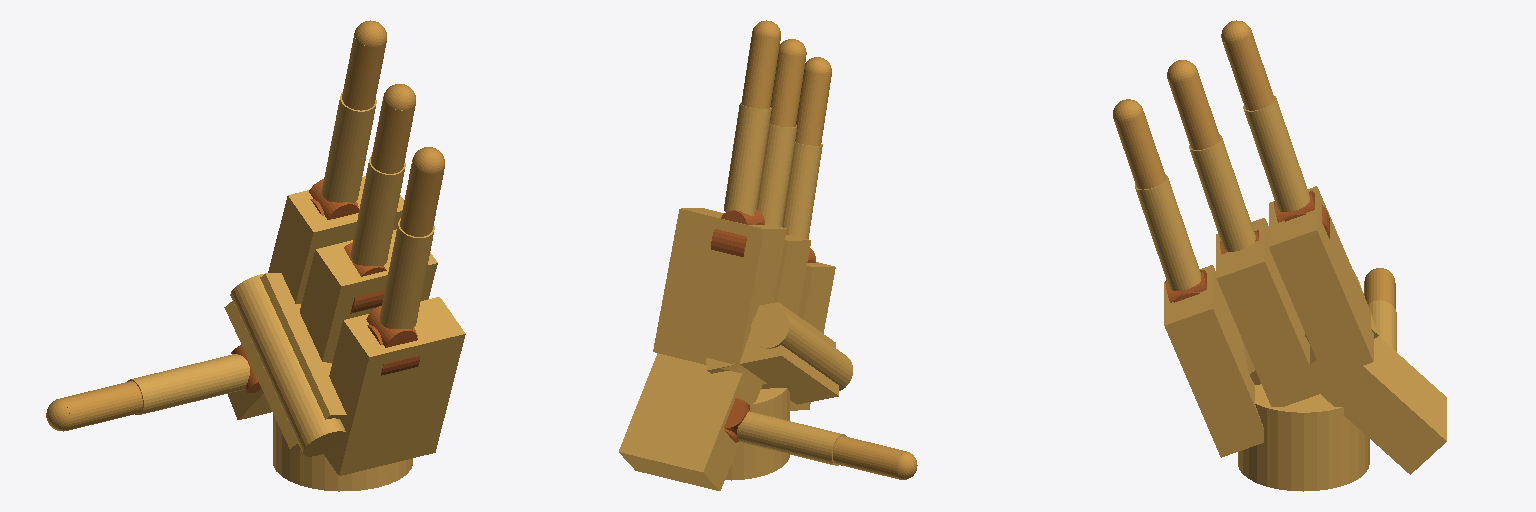
--- Render facts (derived) ---
3 views of the same robot in one strip: view 1: azimuth 30°, elevation 25°; view 2: azimuth 150°, elevation 25°; view 3: azimuth 270°, elevation 25° (orthographic).
Model sandia_hand_left with 43 links and 42 joints (15 revolute, 3 prismatic, 24 fixed), rooted at world, posed all joints at 0.
Links seen in each view (by area): view 1: left_palm, left_f3_1, left_f2_1, left_f1_1, left_f0_1, left_f3_2, left_f1_2, left_f2_2, left_f0_2, left_f2_0, left_f0_0, left_f1_0; view 2: left_palm, left_f0_1, left_f3_1, left_f1_1, left_f2_1, left_f0_2, left_f3_2, left_f2_2, left_f1_2, left_f0_0, left_f3_0; view 3: left_palm, left_f1_1, left_f2_1, left_f0_1, left_f1_2, left_f2_2, left_f0_2, left_f3_2, left_f3_1, left_f0_0.
Link boxes in pixels (x1,y1,x2,y2): left_palm: (224, 176, 465, 491); left_f3_1: (127, 354, 249, 414); left_f2_1: (380, 218, 434, 328); left_f1_1: (351, 155, 405, 265); left_f0_1: (322, 92, 376, 202); left_f3_2: (46, 381, 142, 431); left_f1_2: (371, 84, 415, 173); left_f2_2: (400, 147, 444, 236); left_f0_2: (342, 20, 386, 110); left_f2_0: (366, 306, 419, 375); left_f0_0: (309, 179, 358, 219); left_f1_0: (344, 242, 386, 313); left_palm: (619, 208, 852, 490); left_f0_1: (724, 102, 771, 215); left_f3_1: (737, 411, 846, 465); left_f1_1: (757, 124, 796, 226); left_f2_1: (782, 142, 822, 238); left_f0_2: (741, 20, 780, 108); left_f3_2: (833, 436, 917, 479); left_f2_2: (795, 57, 831, 145); left_f1_2: (770, 39, 806, 126); left_f0_0: (711, 210, 764, 256); left_f3_0: (724, 397, 750, 442); left_palm: (1164, 186, 1446, 491); left_f1_1: (1189, 134, 1255, 251); left_f2_1: (1135, 174, 1200, 290); left_f0_1: (1243, 96, 1309, 211); left_f1_2: (1167, 60, 1219, 149); left_f2_2: (1113, 99, 1165, 189); left_f0_2: (1221, 20, 1274, 110); left_f3_2: (1364, 268, 1395, 308); left_f3_1: (1368, 300, 1396, 351); left_f0_0: (1274, 191, 1329, 238).
Bounding box of the posed robot: 0.196 × 0.1924 × 0.2782 m (x, y, z).
Geometry: primitives only (box / cylinder / sphere), no mesh files.

robot.urdf — sandia_hand_left:
<?xml version="1.0" ?>
<!-- =================================================================================== -->
<!-- |    This document was autogenerated by xacro from sandia_hand_drake_left_w_floating_base.urdf.xacro | -->
<!-- |    EDITING THIS FILE BY HAND IS NOT RECOMMENDED                                 | -->
<!-- =================================================================================== -->
<robot name="sandia_hand_left" xmlns:controller="http://playerstage.sourceforge.net/gazebo/xmlschema/#controller" xmlns:interface="http://playerstage.sourceforge.net/gazebo/xmlschema/#interface" xmlns:sensor="http://playerstage.sourceforge.net/gazebo/xmlschema/#sensor" xmlns:xacro="http://www.ros.org/wiki/xacro">
  <!-- derived from /usr/share/sandia-hand-5.1/ros/sandia_hand_description/robots/sandia_hand_left_on_box.urdf.xacro-->
  <!-- Commenting out urdf with meshes, using simple collision shapes instead -->
  <!--<include filename="$(find mit_drcsim_scripts)/models/mit_robot_hands/drake_urdfs/xacro/sandia_hand_drake.urdf.xacro" />-->
  <link name="world">
    <origin rpy="0 0 0" xyz="0 0 0"/>
    <inertial>
      <mass value="0.1"/>
      <origin xyz="0 0 0"/>
      <inertia ixx="0.01" ixy="0" ixz="0" iyy="0.01" iyz="0" izz="0.01"/>
    </inertial>
  </link>
  <link name="left_base_x">
    <origin rpy="0 0 0" xyz="0 0 0"/>
    <inertial>
      <mass value="0.1"/>
      <origin xyz="0 0 0"/>
      <inertia ixx="0.01" ixy="0" ixz="0" iyy="0.01" iyz="0" izz="0.01"/>
    </inertial>
  </link>
  <link name="left_base_y">
    <origin rpy="0 0 0" xyz="0 0 0"/>
    <inertial>
      <mass value="0.1"/>
      <origin xyz="0 0 0"/>
      <inertia ixx="0.01" ixy="0" ixz="0" iyy="0.01" iyz="0" izz="0.01"/>
    </inertial>
  </link>
  <link name="left_base_z">
    <origin rpy="0 0 0" xyz="0 0 0"/>
    <inertial>
      <mass value="0.1"/>
      <origin xyz="0 0 0"/>
      <inertia ixx="0.01" ixy="0" ixz="0" iyy="0.01" iyz="0" izz="0.01"/>
    </inertial>
  </link>
  <link name="left_base_roll">
    <origin rpy="0 0 0" xyz="0 0 0"/>
    <inertial>
      <mass value="0.1"/>
      <origin xyz="0 0 0"/>
      <inertia ixx="0.01" ixy="0" ixz="0" iyy="0.01" iyz="0" izz="0.01"/>
    </inertial>
  </link>
  <link name="left_base_pitch">
    <origin rpy="0 0 0" xyz="0 0 0"/>
    <inertial>
      <mass value="0.1"/>
      <origin xyz="0 0 0"/>
      <inertia ixx="0.01" ixy="0" ixz="0" iyy="0.01" iyz="0" izz="0.01"/>
    </inertial>
  </link>
  <link name="left_base_yaw">
    <origin rpy="0 0 0" xyz="0 0 0"/>
    <inertial>
      <mass value="0.1"/>
      <origin xyz="0 0 0"/>
      <inertia ixx="0.01" ixy="0" ixz="0" iyy="0.01" iyz="0" izz="0.01"/>
    </inertial>
  </link>
  <joint name="left_base_x" type="prismatic">
    <axis xyz="1 0 0"/>
    <parent link="world"/>
    <child link="left_base_x"/>
    <limit effort="1" lower="-10" upper="10" velocity="1"/>
    <!-- <safety_controller soft_lower_limit="${-1.57079-10.0}" soft_upper_limit="${1.57079+10.0}" k_position="1000.0" k_velocity="1000.0"/> -->
    <dynamics damping="0.1"/>
    <origin rpy="0 0 0" xyz="-0.1 0 0.0"/>
  </joint>
  <joint name="left_base_y" type="prismatic">
    <axis xyz="0 1 0"/>
    <parent link="left_base_x"/>
    <child link="left_base_y"/>
    <limit effort="1" lower="-10" upper="10" velocity="1"/>
    <!-- <safety_controller soft_lower_limit="${-1.57079-10.0}" soft_upper_limit="${1.57079+10.0}" k_position="1000.0" k_velocity="1000.0"/> -->
    <dynamics damping="0.1"/>
    <origin rpy="0 0 0" xyz="0 0 0"/>
  </joint>
  <joint name="left_base_z" type="prismatic">
    <axis xyz="0 0 1"/>
    <parent link="left_base_y"/>
    <child link="left_base_z"/>
    <limit effort="1" lower="-10" upper="10" velocity="1"/>
    <!-- <safety_controller soft_lower_limit="${-1.57079-10.0}" soft_upper_limit="${1.57079+10.0}" k_position="1000.0" k_velocity="1000.0"/> -->
    <dynamics damping="0.1"/>
    <origin rpy="0 0 0" xyz="0 0 0"/>
  </joint>
  <joint name="left_base_roll" type="revolute">
    <axis xyz="1 0 0"/>
    <parent link="left_base_z"/>
    <child link="left_base_roll"/>
    <limit effort="1" lower="-6.2832" upper="6.2832" velocity="1"/>
    <safety_controller k_position="1000.0" k_velocity="1000.0" soft_lower_limit="-11.57079" soft_upper_limit="11.57079"/>
    <dynamics damping="0.1"/>
    <origin rpy="0 0 0" xyz="0 0 0"/>
  </joint>
  <joint name="left_base_pitch" type="revolute">
    <axis xyz="0 1 0"/>
    <parent link="left_base_roll"/>
    <child link="left_base_pitch"/>
    <limit effort="1" lower="-6.2832" upper="6.2832" velocity="1"/>
    <safety_controller k_position="1000.0" k_velocity="1000.0" soft_lower_limit="-11.57079" soft_upper_limit="11.57079"/>
    <dynamics damping="0.1"/>
    <origin rpy="0 0 0" xyz="0 0 0"/>
  </joint>
  <joint name="left_base_yaw" type="revolute">
    <axis xyz="0 0 1"/>
    <parent link="left_base_pitch"/>
    <child link="left_base_yaw"/>
    <limit effort="1" lower="-6.2832" upper="6.2832" velocity="1"/>
    <safety_controller k_position="1000.0" k_velocity="1000.0" soft_lower_limit="-11.57079" soft_upper_limit="11.57079"/>
    <dynamics damping="0.1"/>
    <origin rpy="0 0 0" xyz="0 0 0"/>
  </joint>
  <link name="left_palm">
    <origin rpy="0 0 0" xyz="0 0 0"/>
    <inertial>
      <mass value="0.3"/>
      <origin xyz="0 0 0"/>
      <inertia ixx="0.01" ixy="0" ixz="0" iyy="0.01" iyz="0" izz="0.01"/>
    </inertial>
    <!-- begin simple shape approximation of palm -->
    <!-- <collision group="default">
        <origin xyz="0.069 ${0.016 * reflect} 0.038" rpy="0 ${M_pi/2} ${-0.9 * reflect}"/>
        <geometry>
          <cylinder radius="0.013" length="0.100" />
        </geometry>
      </collision> -->
    <!-- <collision group="other">
        <origin xyz="0.064 ${0.008 * reflect} 0.021" rpy="0.41 0 ${-0.9 * reflect}"/>
        <geometry>
          <box size="0.09 .035 .05" />
        </geometry>
      </collision> -->
    <!-- <collision group="other">
        <origin xyz="0.02 0 -0.005" rpy="0 ${M_pi/2} 0"/>
        <geometry>
          <cylinder radius="0.038" length="0.05" />
        </geometry>
      </collision> -->
    <!-- <collision group="other">
        <origin xyz="0.11 ${-0.01*reflect} -0.005" rpy="0 0 ${0.37*reflect}"/>
        <geometry>
          <box size="0.09 .03 .06" />
        </geometry>
      </collision> -->
    <!-- <collision group="other">
        <origin xyz="0.09 ${0.02*reflect} -0.005" rpy="0 0 ${0.37*reflect}"/>
        <geometry>
          <box size="0.09 .03 .06" />
        </geometry>
      </collision> -->
    <!--<collision group="other">
        <origin xyz="0.060 ${0.050*reflect} -0.005" rpy="0 0 ${0.37*reflect}"/>
        <geometry>
          <box size="0.09 .03 .06" />
        </geometry>
      </collision> -->
    <!-- <collision group="other">
        <origin xyz="0.044 ${-0.04*reflect} -0.005" rpy="0 0 ${0.79*reflect}"/>
        <geometry>
          <box size="0.09 .03 .06" />
        </geometry>
      </collision>-->
    <!--   end simple shape approximation of palm -->
    <!-- begin visual shape approximation of palm -->
    <visual>
      <origin rpy="0 1.57079632679 0.9" xyz="0.069 -0.016 0.038"/>
      <geometry>
        <cylinder length="0.100" radius="0.013"/>
      </geometry>
      <material name="left_sandia_hand_skin">
        <color rgba="0.835 0.655 0.345 1.0"/>
      </material>
    </visual>
    <visual>
      <origin rpy="0.41 0 0.9" xyz="0.064 -0.008 0.021"/>
      <geometry>
        <box size="0.09 .035 .05"/>
      </geometry>
      <material name="left_sandia_hand_skin">
        <color rgba="0.835 0.655 0.345 1.0"/>
      </material>
    </visual>
    <visual>
      <origin rpy="0 1.57079632679 0" xyz="0.02 0 -0.005"/>
      <geometry>
        <cylinder length="0.05" radius="0.038"/>
      </geometry>
      <material name="left_sandia_hand_skin">
        <color rgba="0.835 0.655 0.345 1.0"/>
      </material>
    </visual>
    <visual>
      <origin rpy="0 0 -0.37" xyz="0.11 0.01 -0.005"/>
      <geometry>
        <box size="0.09 .03 .06"/>
      </geometry>
      <material name="left_sandia_hand_skin">
        <color rgba="0.835 0.655 0.345 1.0"/>
      </material>
    </visual>
    <visual>
      <origin rpy="0 0 -0.37" xyz="0.09 -0.02 -0.005"/>
      <geometry>
        <box size="0.09 .03 .06"/>
      </geometry>
      <material name="left_sandia_hand_skin">
        <color rgba="0.835 0.655 0.345 1.0"/>
      </material>
    </visual>
    <visual>
      <origin rpy="0 0 -0.37" xyz="0.060 -0.05 -0.005"/>
      <geometry>
        <box size="0.09 .03 .06"/>
      </geometry>
      <material name="left_sandia_hand_skin">
        <color rgba="0.835 0.655 0.345 1.0"/>
      </material>
    </visual>
    <visual>
      <origin rpy="0 0 -0.79" xyz="0.044 0.04 -0.005"/>
      <geometry>
        <box size="0.09 .03 .06"/>
      </geometry>
      <material name="left_sandia_hand_skin">
        <color rgba="0.835 0.655 0.345 1.0"/>
      </material>
    </visual>
    <!--   end visual shape approximation of palm -->
    <!-- begin collision mesh of f2 ->
      <collision group="default">
        <origin xyz="0 0 0" rpy="0 0 0"/>
        <geometry>
          <mesh filename="package://sandia_hand_description/meshes/palm.stl"/>
        </geometry>
      </collision>
      <!-   end collision mesh of f2 -->
    <!-- begin visual mesh of f2    ->
      <visual>
        <origin xyz="0 0 0" rpy="0 0 0"/>
        <geometry>
          <mesh filename="package://sandia_hand_description/meshes/palm.stl"/>
        </geometry>
        <material name="${side}_sandia_hand_skin">
          <color rgba="0.835 0.655 0.345 1.0"/>
        </material>
      </visual>
      <!-   end visual mesh of f2 -->
  </link>
  <joint name="left_sandia_hand_joint" type="fixed">
    <parent link="left_base_yaw"/>
    <child link="left_palm"/>
    <origin rpy="0 -1.57079 0" xyz="0 0 0.0"/>
  </joint>
  <link name="left_f0_base">
    <origin rpy="0 0 0" xyz="0 0 0"/>
    <inertial>
      <mass value="0.35"/>
      <origin xyz="0 0 0"/>
      <inertia ixx="0.01" ixy="0" ixz="0" iyy="0.01" iyz="0" izz="0.01"/>
    </inertial>
  </link>
  <link name="left_f0_fixed_accel">
    <origin rpy="0 0 0" xyz="0 0 0"/>
    <inertial>
      <mass value="0.001"/>
      <origin xyz="0 0 0"/>
      <inertia ixx="0.01" ixy="0" ixz="0" iyy="0.01" iyz="0" izz="0.01"/>
    </inertial>
    <!-- ############ MIT ADDITION ############ -->
    <collision>
      <origin rpy="0 0 0" xyz="0 0 0.05"/>
      <geometry>
        <sphere radius="0"/>
      </geometry>
    </collision>
    <!-- ############    END     ############ -->
  </link>
  <link name="left_f0_0">
    <origin rpy="0 0 0" xyz="0 0 0"/>
    <inertial>
      <mass value="0.05"/>
      <origin xyz="0 0 0"/>
      <inertia ixx="0.01" ixy="0" ixz="0" iyy="0.01" iyz="0" izz="0.01"/>
    </inertial>
    <!-- begin simple shape approximation of f0 -->
    <!-- <collision group="default">
        <origin xyz="0 0 0.003" rpy="0 0 0"/>
        <geometry>
          <cylinder radius="0.015" length="0.023" />
        </geometry>
      </collision> -->
    <!-- <collision group="other">
        <origin xyz="0.011 0 0.003" rpy="${M_pi/2} 0 0"/>
        <geometry>
          <cylinder radius="0.01" length="0.023" />
        </geometry>
      </collision> -->
    <!--   end simple shape approximation of f0 -->
    <!-- begin visual shape approximation of f0 -->
    <visual>
      <origin rpy="0 0 0" xyz="0 0 0.003"/>
      <geometry>
        <cylinder length="0.023" radius="0.015"/>
      </geometry>
      <material name="left_sandia_hand_skin_suntan">
        <color rgba="0.7 0.4 0.2 1.0"/>
      </material>
    </visual>
    <visual>
      <origin rpy="1.57079632679 0 0" xyz="0.011 0 0.003"/>
      <geometry>
        <cylinder length="0.023" radius="0.01"/>
      </geometry>
      <material name="left_sandia_hand_skin_suntan">
        <color rgba="0.7 0.4 0.2 1.0"/>
      </material>
    </visual>
    <!--   end visual shape approximation of f0 -->
    <!-- begin collision mesh of f0 ->
      <collision group="default">
        <origin xyz="0 0 0" rpy="0 0 0"/>
        <geometry>
          <mesh filename="package://sandia_hand_description/meshes/f0.stl"/>
        </geometry>
      </collision>
      <!-   end collision mesh of f0 -->
    <!-- begin visual mesh of f0 ->
      <visual>
        <origin xyz="0 0 0" rpy="0 0 0"/>
        <geometry>
          <mesh filename="package://sandia_hand_description/meshes/f0.stl"/>
        </geometry>
        <material name="${side}_sandia_hand_skin_suntan">
          <color rgba="0.7 0.4 0.2 1.0"/>
        </material>
      </visual>
      <!-   end visual mesh of f0 -->
  </link>
  <link name="left_f0_1">
    <origin rpy="0 0 0" xyz="0 0 0"/>
    <inertial>
      <mass value="0.05"/>
      <origin xyz="0 0 0"/>
      <inertia ixx="0.01" ixy="0" ixz="0" iyy="0.01" iyz="0" izz="0.01"/>
    </inertial>
    <!-- begin simple shape approximation of f1 -->
    <!-- <collision group="default">
        <origin xyz="0.024 0 0" rpy="0 ${M_pi/2} 0"/>
        <geometry>
          <cylinder radius="0.01" length="0.067" />
        </geometry>
      </collision> -->
    <!--   end simple shape approximation of f1 -->
    <!-- begin visual shape approximation of f1 -->
    <visual>
      <origin rpy="0 1.57079632679 0" xyz="0.024 0 0"/>
      <geometry>
        <cylinder length="0.067" radius="0.01"/>
      </geometry>
      <material name="left_sandia_hand_skin">
        <color rgba="0.835 0.655 0.345 1.0"/>
      </material>
    </visual>
    <!--   end visual shape approximation of f1 -->
    <!-- begin collision mesh of f1 ->
      <collision group="default">
        <origin xyz="0 0 0" rpy="0 0 0"/>
        <geometry>
          <mesh filename="package://sandia_hand_description/meshes/f1.stl"/>
        </geometry>
      </collision>
      <!-   end collision mesh of f1 -->
    <!-- begin visual mesh of f1 ->
      <visual>
        <origin xyz="0 0 0" rpy="0 0 0"/>
        <geometry>
          <mesh filename="package://sandia_hand_description/meshes/f1.stl"/>
        </geometry>
        <material name="${side}_sandia_hand_skin">
          <color rgba="0.835 0.655 0.345 1.0"/>
        </material>
      </visual>
      <!-   end visual mesh of f1 -->
  </link>
  <link name="left_f0_1_accel">
    <origin rpy="0 0 0" xyz="0 0 0"/>
    <inertial>
      <mass value="0.001"/>
      <origin xyz="0 0 0"/>
      <inertia ixx="0.01" ixy="0" ixz="0" iyy="0.01" iyz="0" izz="0.01"/>
    </inertial>
    <!-- ############ MIT ADDITION ############ -->
    <!--      <collision>-->
    <!--        <origin rpy="0 0 0" xyz="0 0 0.01"/>-->
    <!--        <geometry>-->
    <!--          <sphere radius="0"/>-->
    <!--        </geometry>-->
    <!--      </collision>  -->
    <!-- ############    END     ############ -->
  </link>
  <link name="left_f0_2">
    <origin rpy="0 0 0" xyz="0 0 0"/>
    <inertial>
      <mass value="0.05"/>
      <origin xyz="0 0 0"/>
      <inertia ixx="0.01" ixy="0" ixz="0" iyy="0.01" iyz="0" izz="0.01"/>
    </inertial>
    <!-- begin simple shape approximation of f2 -->
    <!-- <collision group="default">
        <origin xyz="0.024 0 0" rpy="0 ${M_pi/2} 0"/>
        <geometry>
          <cylinder radius="0.009" length="0.057" />
        </geometry>
      </collision> -->
    <!-- <collision group="other">
        <origin xyz="0.052 0 0" rpy="0 0 0"/>
        <geometry>
          <sphere radius="0.009" />
        </geometry>
      </collision> -->
    <!--   end simple shape approximation of f2 -->
    <!-- begin visual shape approximation of f2 -->
    <visual>
      <origin rpy="0 1.57079632679 0" xyz="0.024 0 0"/>
      <geometry>
        <cylinder length="0.057" radius="0.009"/>
      </geometry>
      <material name="left_sandia_hand_skin_suntan">
        <color rgba="0.8 0.6 0.3 1.0"/>
      </material>
    </visual>
    <visual>
      <origin rpy="0 0 0" xyz="0.052 0 0"/>
      <geometry>
        <sphere radius="0.009"/>
      </geometry>
      <material name="left_sandia_hand_skin_suntan">
        <color rgba="0.8 0.6 0.3 1.0"/>
      </material>
    </visual>
    <!-- begin collision mesh of f2    ->
      <collision group="default">
        <origin xyz="0 0 0" rpy="0 0 0"/>
        <geometry>
          <mesh filename="package://sandia_hand_description/meshes/f2.stl"/>
        </geometry>
      </collision>
      <!-   end collision mesh of f2 -->
    <!-- begin visual mesh of f2    ->
      <visual>
        <origin xyz="0 0 0" rpy="0 0 0"/>
        <geometry>
          <mesh filename="package://sandia_hand_description/meshes/f2.stl"/>
        </geometry>
        <material name="${side}_sandia_hand_skin_suntan">
          <color rgba="0.8 0.6 0.3 1.0"/>
        </material>
      </visual>
      <!-   end visual mesh of f2 -->
  </link>
  <link name="left_f0_2_accel">
    <origin rpy="0 0 0" xyz="0 0 0"/>
    <inertial>
      <mass value="0.001"/>
      <origin xyz="0 0 0"/>
      <inertia ixx="0.01" ixy="0" ixz="0" iyy="0.01" iyz="0" izz="0.01"/>
    </inertial>
    <!-- ############ MIT ADDITION ############ -->
    <collision>
      <origin rpy="0 0 0" xyz="0 0 0.01"/>
      <geometry>
        <sphere radius="0"/>
      </geometry>
    </collision>
    <!-- ############    END     ############ -->
  </link>
  <link name="left_f0_2_accel_dummy1">
    <origin rpy="0 0 0" xyz="0 0 0"/>
    <inertial>
      <mass value="0.001"/>
      <origin xyz="0 0 0"/>
      <inertia ixx="0.01" ixy="0" ixz="0" iyy="0.01" iyz="0" izz="0.01"/>
    </inertial>
    <collision>
      <origin rpy="0 0 0" xyz="-0.02 0.0 0.01"/>
      <geometry>
        <sphere radius="0"/>
      </geometry>
    </collision>
  </link>
  <joint name="left_f0_2_accel_dummy1" type="fixed">
    <parent link="left_f0_2"/>
    <child link="left_f0_2_accel_dummy1"/>
    <origin rpy="-1.57079632679 0 0" xyz="0.04 0 0"/>
  </joint>
  <joint name="left_f0_base" type="fixed">
    <parent link="left_palm"/>
    <child link="left_f0_base"/>
    <origin rpy="0 0 -0.3" xyz="0.14 0.0 0"/>
  </joint>
  <joint name="left_f0_j1" type="revolute">
    <axis xyz="0 0 1"/>
    <parent link="left_f0_0"/>
    <child link="left_f0_1"/>
    <limit effort="1" lower="-1.57079632679" upper="1.57079632679" velocity="1"/>
    <safety_controller k_position="1000.0" k_velocity="1000.0" soft_lower_limit="-11.57079" soft_upper_limit="11.57079"/>
    <dynamics damping="0.2"/>
    <origin rpy="1.57079632679 0 0" xyz="0.028 0 0"/>
  </joint>
  <joint name="left_f0_j2" type="revolute">
    <axis xyz="0 0 1"/>
    <parent link="left_f0_1"/>
    <child link="left_f0_2"/>
    <origin rpy="0 0 0" xyz="0.05 0 0"/>
    <safety_controller k_position="1000.0" k_velocity="1000.0" soft_lower_limit="-11.57079" soft_upper_limit="11.57079"/>
    <dynamics damping="0.2"/>
    <limit effort="1" lower="-1.57079632679" upper="1.57079632679" velocity="1"/>
  </joint>
  <joint name="left_f0_fixed_accel" type="fixed">
    <parent link="left_f0_base"/>
    <child link="left_f0_fixed_accel"/>
    <origin rpy="0 0 0" xyz="-0.05 0 0"/>
  </joint>
  <joint name="left_f0_1_accel" type="fixed">
    <parent link="left_f0_1"/>
    <child link="left_f0_1_accel"/>
    <origin rpy="-1.57079632679 0 0" xyz="0.03 0 0"/>
  </joint>
  <joint name="left_f0_2_accel" type="fixed">
    <parent link="left_f0_2"/>
    <child link="left_f0_2_accel"/>
    <origin rpy="-1.57079632679 0 0" xyz="0.04 0 0"/>
  </joint>
  <link name="left_f0_knuckle_dummy_contact">
    <origin rpy="0 0 0" xyz="0 0 0"/>
    <inertial>
      <mass value="0.001"/>
      <origin xyz="0 0 0"/>
      <inertia ixx="0.001" ixy="0" ixz="0" iyy="0.001" iyz="0" izz="0.001"/>
    </inertial>
    <collision>
      <origin rpy="0 0 0" xyz="0.058 0 0.034"/>
      <!--TODO: THERE IS A ERROR HERE: xyz needs to be "0.058 0 0.034" instead of "0.1 0 0.05"-->
      <geometry>
        <sphere radius="0"/>
      </geometry>
    </collision>
  </link>
  <joint name="left_f0_knuckle_dummy_contact" type="fixed">
    <parent link="left_f0_base"/>
    <child link="left_f0_knuckle_dummy_contact"/>
    <origin rpy="0 0 0" xyz="-0.05 0 0"/>
  </joint>
  <transmission name="left_f0_j0" type="pr2_mechanism_model/SimpleTransmission">
    <joint name="left_f0_j0"/>
    <actuator name="left_f0_j0_motor"/>
    <mechanicalReduction>1</mechanicalReduction>
  </transmission>
  <transmission name="left_f0_j1" type="pr2_mechanism_model/SimpleTransmission">
    <joint name="left_f0_j1"/>
    <actuator name="left_f0_j1_motor"/>
    <mechanicalReduction>1</mechanicalReduction>
  </transmission>
  <transmission name="left_f0_j2" type="pr2_mechanism_model/SimpleTransmission">
    <joint name="left_f0_j2"/>
    <actuator name="left_f0_j2_motor"/>
    <mechanicalReduction>1</mechanicalReduction>
  </transmission>
  <link name="left_f1_base">
    <origin rpy="0 0 0" xyz="0 0 0"/>
    <inertial>
      <mass value="0.35"/>
      <origin xyz="0 0 0"/>
      <inertia ixx="0.01" ixy="0" ixz="0" iyy="0.01" iyz="0" izz="0.01"/>
    </inertial>
  </link>
  <link name="left_f1_fixed_accel">
    <origin rpy="0 0 0" xyz="0 0 0"/>
    <inertial>
      <mass value="0.001"/>
      <origin xyz="0 0 0"/>
      <inertia ixx="0.01" ixy="0" ixz="0" iyy="0.01" iyz="0" izz="0.01"/>
    </inertial>
    <!-- ############ MIT ADDITION ############ -->
    <collision>
      <origin rpy="0 0 0" xyz="0 0 0.05"/>
      <geometry>
        <sphere radius="0"/>
      </geometry>
    </collision>
    <!-- ############    END     ############ -->
  </link>
  <link name="left_f1_0">
    <origin rpy="0 0 0" xyz="0 0 0"/>
    <inertial>
      <mass value="0.05"/>
      <origin xyz="0 0 0"/>
      <inertia ixx="0.01" ixy="0" ixz="0" iyy="0.01" iyz="0" izz="0.01"/>
    </inertial>
    <!-- begin simple shape approximation of f0 -->
    <!-- <collision group="default">
        <origin xyz="0 0 0.003" rpy="0 0 0"/>
        <geometry>
          <cylinder radius="0.015" length="0.023" />
        </geometry>
      </collision> -->
    <!-- <collision group="other">
        <origin xyz="0.011 0 0.003" rpy="${M_pi/2} 0 0"/>
        <geometry>
          <cylinder radius="0.01" length="0.023" />
        </geometry>
      </collision> -->
    <!--   end simple shape approximation of f0 -->
    <!-- begin visual shape approximation of f0 -->
    <visual>
      <origin rpy="0 0 0" xyz="0 0 0.003"/>
      <geometry>
        <cylinder length="0.023" radius="0.015"/>
      </geometry>
      <material name="left_sandia_hand_skin_suntan">
        <color rgba="0.7 0.4 0.2 1.0"/>
      </material>
    </visual>
    <visual>
      <origin rpy="1.57079632679 0 0" xyz="0.011 0 0.003"/>
      <geometry>
        <cylinder length="0.023" radius="0.01"/>
      </geometry>
      <material name="left_sandia_hand_skin_suntan">
        <color rgba="0.7 0.4 0.2 1.0"/>
      </material>
    </visual>
    <!--   end visual shape approximation of f0 -->
    <!-- begin collision mesh of f0 ->
      <collision group="default">
        <origin xyz="0 0 0" rpy="0 0 0"/>
        <geometry>
          <mesh filename="package://sandia_hand_description/meshes/f0.stl"/>
        </geometry>
      </collision>
      <!-   end collision mesh of f0 -->
    <!-- begin visual mesh of f0 ->
      <visual>
        <origin xyz="0 0 0" rpy="0 0 0"/>
        <geometry>
          <mesh filename="package://sandia_hand_description/meshes/f0.stl"/>
        </geometry>
        <material name="${side}_sandia_hand_skin_suntan">
          <color rgba="0.7 0.4 0.2 1.0"/>
        </material>
      </visual>
      <!-   end visual mesh of f0 -->
  </link>
  <link name="left_f1_1">
    <origin rpy="0 0 0" xyz="0 0 0"/>
    <inertial>
      <mass value="0.05"/>
      <origin xyz="0 0 0"/>
      <inertia ixx="0.01" ixy="0" ixz="0" iyy="0.01" iyz="0" izz="0.01"/>
    </inertial>
    <!-- begin simple shape approximation of f1 -->
    <!-- <collision group="default">
        <origin xyz="0.024 0 0" rpy="0 ${M_pi/2} 0"/>
        <geometry>
          <cylinder radius="0.01" length="0.067" />
        </geometry>
      </collision> -->
    <!--   end simple shape approximation of f1 -->
    <!-- begin visual shape approximation of f1 -->
    <visual>
      <origin rpy="0 1.57079632679 0" xyz="0.024 0 0"/>
      <geometry>
        <cylinder length="0.067" radius="0.01"/>
      </geometry>
      <material name="left_sandia_hand_skin">
        <color rgba="0.835 0.655 0.345 1.0"/>
      </material>
    </visual>
    <!--   end visual shape approximation of f1 -->
    <!-- begin collision mesh of f1 ->
      <collision group="default">
        <origin xyz="0 0 0" rpy="0 0 0"/>
        <geometry>
          <mesh filename="package://sandia_hand_description/meshes/f1.stl"/>
        </geometry>
      </collision>
      <!-   end collision mesh of f1 -->
    <!-- begin visual mesh of f1 ->
      <visual>
        <origin xyz="0 0 0" rpy="0 0 0"/>
        <geometry>
          <mesh filename="package://sandia_hand_description/meshes/f1.stl"/>
        </geometry>
        <material name="${side}_sandia_hand_skin">
          <color rgba="0.835 0.655 0.345 1.0"/>
        </material>
      </visual>
      <!-   end visual mesh of f1 -->
  </link>
  <link name="left_f1_1_accel">
    <origin rpy="0 0 0" xyz="0 0 0"/>
    <inertial>
      <mass value="0.001"/>
      <origin xyz="0 0 0"/>
      <inertia ixx="0.01" ixy="0" ixz="0" iyy="0.01" iyz="0" izz="0.01"/>
    </inertial>
    <!-- ############ MIT ADDITION ############ -->
    <!--      <collision>-->
    <!--        <origin rpy="0 0 0" xyz="0 0 0.01"/>-->
    <!--        <geometry>-->
    <!--          <sphere radius="0"/>-->
    <!--        </geometry>-->
    <!--      </collision>  -->
    <!-- ############    END     ############ -->
  </link>
  <link name="left_f1_2">
    <origin rpy="0 0 0" xyz="0 0 0"/>
    <inertial>
      <mass value="0.05"/>
      <origin xyz="0 0 0"/>
      <inertia ixx="0.01" ixy="0" ixz="0" iyy="0.01" iyz="0" izz="0.01"/>
    </inertial>
    <!-- begin simple shape approximation of f2 -->
    <!-- <collision group="default">
        <origin xyz="0.024 0 0" rpy="0 ${M_pi/2} 0"/>
        <geometry>
          <cylinder radius="0.009" length="0.057" />
        </geometry>
      </collision> -->
    <!-- <collision group="other">
        <origin xyz="0.052 0 0" rpy="0 0 0"/>
        <geometry>
          <sphere radius="0.009" />
        </geometry>
      </collision> -->
    <!--   end simple shape approximation of f2 -->
    <!-- begin visual shape approximation of f2 -->
    <visual>
      <origin rpy="0 1.57079632679 0" xyz="0.024 0 0"/>
      <geometry>
        <cylinder length="0.057" radius="0.009"/>
      </geometry>
      <material name="left_sandia_hand_skin_suntan">
        <color rgba="0.8 0.6 0.3 1.0"/>
      </material>
    </visual>
    <visual>
      <origin rpy="0 0 0" xyz="0.052 0 0"/>
      <geometry>
        <sphere radius="0.009"/>
      </geometry>
      <material name="left_sandia_hand_skin_suntan">
        <color rgba="0.8 0.6 0.3 1.0"/>
      </material>
    </visual>
    <!-- begin collision mesh of f2    ->
      <collision group="default">
        <origin xyz="0 0 0" rpy="0 0 0"/>
        <geometry>
          <mesh filename="package://sandia_hand_description/meshes/f2.stl"/>
        </geometry>
      </collision>
      <!-   end collision mesh of f2 -->
    <!-- begin visual mesh of f2    ->
      <visual>
        <origin xyz="0 0 0" rpy="0 0 0"/>
        <geometry>
          <mesh filename="package://sandia_hand_description/meshes/f2.stl"/>
        </geometry>
        <material name="${side}_sandia_hand_skin_suntan">
          <color rgba="0.8 0.6 0.3 1.0"/>
        </material>
      </visual>
      <!-   end visual mesh of f2 -->
  </link>
  <link name="left_f1_2_accel">
    <origin rpy="0 0 0" xyz="0 0 0"/>
    <inertial>
      <mass value="0.001"/>
      <origin xyz="0 0 0"/>
      <inertia ixx="0.01" ixy="0" ixz="0" iyy="0.01" iyz="0" izz="0.01"/>
    </inertial>
    <!-- ############ MIT ADDITION ############ -->
    <collision>
      <origin rpy="0 0 0" xyz="0 0 0.01"/>
      <geometry>
        <sphere radius="0"/>
      </geometry>
    </collision>
    <!-- ############    END     ############ -->
  </link>
  <link name="left_f1_2_accel_dummy1">
    <origin rpy="0 0 0" xyz="0 0 0"/>
    <inertial>
      <mass value="0.001"/>
      <origin xyz="0 0 0"/>
      <inertia ixx="0.01" ixy="0" ixz="0" iyy="0.01" iyz="0" izz="0.01"/>
    </inertial>
    <collision>
      <origin rpy="0 0 0" xyz="-0.02 0.0 0.01"/>
      <geometry>
        <sphere radius="0"/>
      </geometry>
    </collision>
  </link>
  <joint name="left_f1_2_accel_dummy1" type="fixed">
    <parent link="left_f1_2"/>
    <child link="left_f1_2_accel_dummy1"/>
    <origin rpy="-1.57079632679 0 0" xyz="0.04 0 0"/>
  </joint>
  <joint name="left_f1_base" type="fixed">
    <parent link="left_palm"/>
    <child link="left_f1_base"/>
    <origin rpy="0 0 -0.3" xyz="0.115 -0.03122 0"/>
  </joint>
  <joint name="left_f1_j1" type="revolute">
    <axis xyz="0 0 1"/>
    <parent link="left_f1_0"/>
    <child link="left_f1_1"/>
    <limit effort="1" lower="-1.57079632679" upper="1.57079632679" velocity="1"/>
    <safety_controller k_position="1000.0" k_velocity="1000.0" soft_lower_limit="-11.57079" soft_upper_limit="11.57079"/>
    <dynamics damping="0.2"/>
    <origin rpy="1.57079632679 0 0" xyz="0.028 0 0"/>
  </joint>
  <joint name="left_f1_j2" type="revolute">
    <axis xyz="0 0 1"/>
    <parent link="left_f1_1"/>
    <child link="left_f1_2"/>
    <origin rpy="0 0 0" xyz="0.05 0 0"/>
    <safety_controller k_position="1000.0" k_velocity="1000.0" soft_lower_limit="-11.57079" soft_upper_limit="11.57079"/>
    <dynamics damping="0.2"/>
    <limit effort="1" lower="-1.57079632679" upper="1.57079632679" velocity="1"/>
  </joint>
  <joint name="left_f1_fixed_accel" type="fixed">
    <parent link="left_f1_base"/>
    <child link="left_f1_fixed_accel"/>
    <origin rpy="0 0 0" xyz="-0.05 0 0"/>
  </joint>
  <joint name="left_f1_1_accel" type="fixed">
    <parent link="left_f1_1"/>
    <child link="left_f1_1_accel"/>
    <origin rpy="-1.57079632679 0 0" xyz="0.03 0 0"/>
  </joint>
  <joint name="left_f1_2_accel" type="fixed">
    <parent link="left_f1_2"/>
    <child link="left_f1_2_accel"/>
    <origin rpy="-1.57079632679 0 0" xyz="0.04 0 0"/>
  </joint>
  <link name="left_f1_knuckle_dummy_contact">
    <origin rpy="0 0 0" xyz="0 0 0"/>
    <inertial>
      <mass value="0.001"/>
      <origin xyz="0 0 0"/>
      <inertia ixx="0.001" ixy="0" ixz="0" iyy="0.001" iyz="0" izz="0.001"/>
    </inertial>
    <collision>
      <origin rpy="0 0 0" xyz="0.058 0 0.034"/>
      <!--TODO: THERE IS A ERROR HERE: xyz needs to be "0.058 0 0.034" instead of "0.1 0 0.05"-->
      <geometry>
        <sphere radius="0"/>
      </geometry>
    </collision>
  </link>
  <joint name="left_f1_knuckle_dummy_contact" type="fixed">
    <parent link="left_f1_base"/>
    <child link="left_f1_knuckle_dummy_contact"/>
    <origin rpy="0 0 0" xyz="-0.05 0 0"/>
  </joint>
  <transmission name="left_f1_j0" type="pr2_mechanism_model/SimpleTransmission">
    <joint name="left_f1_j0"/>
    <actuator name="left_f1_j0_motor"/>
    <mechanicalReduction>1</mechanicalReduction>
  </transmission>
  <transmission name="left_f1_j1" type="pr2_mechanism_model/SimpleTransmission">
    <joint name="left_f1_j1"/>
    <actuator name="left_f1_j1_motor"/>
    <mechanicalReduction>1</mechanicalReduction>
  </transmission>
  <transmission name="left_f1_j2" type="pr2_mechanism_model/SimpleTransmission">
    <joint name="left_f1_j2"/>
    <actuator name="left_f1_j2_motor"/>
    <mechanicalReduction>1</mechanicalReduction>
  </transmission>
  <link name="left_f2_base">
    <origin rpy="0 0 0" xyz="0 0 0"/>
    <inertial>
      <mass value="0.35"/>
      <origin xyz="0 0 0"/>
      <inertia ixx="0.01" ixy="0" ixz="0" iyy="0.01" iyz="0" izz="0.01"/>
    </inertial>
  </link>
  <link name="left_f2_fixed_accel">
    <origin rpy="0 0 0" xyz="0 0 0"/>
    <inertial>
      <mass value="0.001"/>
      <origin xyz="0 0 0"/>
      <inertia ixx="0.01" ixy="0" ixz="0" iyy="0.01" iyz="0" izz="0.01"/>
    </inertial>
    <!-- ############ MIT ADDITION ############ -->
    <collision>
      <origin rpy="0 0 0" xyz="0 0 0.05"/>
      <geometry>
        <sphere radius="0"/>
      </geometry>
    </collision>
    <!-- ############    END     ############ -->
  </link>
  <link name="left_f2_0">
    <origin rpy="0 0 0" xyz="0 0 0"/>
    <inertial>
      <mass value="0.05"/>
      <origin xyz="0 0 0"/>
      <inertia ixx="0.01" ixy="0" ixz="0" iyy="0.01" iyz="0" izz="0.01"/>
    </inertial>
    <!-- begin simple shape approximation of f0 -->
    <!-- <collision group="default">
        <origin xyz="0 0 0.003" rpy="0 0 0"/>
        <geometry>
          <cylinder radius="0.015" length="0.023" />
        </geometry>
      </collision> -->
    <!-- <collision group="other">
        <origin xyz="0.011 0 0.003" rpy="${M_pi/2} 0 0"/>
        <geometry>
          <cylinder radius="0.01" length="0.023" />
        </geometry>
      </collision> -->
    <!--   end simple shape approximation of f0 -->
    <!-- begin visual shape approximation of f0 -->
    <visual>
      <origin rpy="0 0 0" xyz="0 0 0.003"/>
      <geometry>
        <cylinder length="0.023" radius="0.015"/>
      </geometry>
      <material name="left_sandia_hand_skin_suntan">
        <color rgba="0.7 0.4 0.2 1.0"/>
      </material>
    </visual>
    <visual>
      <origin rpy="1.57079632679 0 0" xyz="0.011 0 0.003"/>
      <geometry>
        <cylinder length="0.023" radius="0.01"/>
      </geometry>
      <material name="left_sandia_hand_skin_suntan">
        <color rgba="0.7 0.4 0.2 1.0"/>
      </material>
    </visual>
    <!--   end visual shape approximation of f0 -->
    <!-- begin collision mesh of f0 ->
      <collision group="default">
        <origin xyz="0 0 0" rpy="0 0 0"/>
        <geometry>
          <mesh filename="package://sandia_hand_description/meshes/f0.stl"/>
        </geometry>
      </collision>
      <!-   end collision mesh of f0 -->
    <!-- begin visual mesh of f0 ->
      <visual>
        <origin xyz="0 0 0" rpy="0 0 0"/>
        <geometry>
          <mesh filename="package://sandia_hand_description/meshes/f0.stl"/>
        </geometry>
        <material name="${side}_sandia_hand_skin_suntan">
          <color rgba="0.7 0.4 0.2 1.0"/>
        </material>
      </visual>
      <!-   end visual mesh of f0 -->
  </link>
  <link name="left_f2_1">
    <origin rpy="0 0 0" xyz="0 0 0"/>
    <inertial>
      <mass value="0.05"/>
      <origin xyz="0 0 0"/>
      <inertia ixx="0.01" ixy="0" ixz="0" iyy="0.01" iyz="0" izz="0.01"/>
    </inertial>
    <!-- begin simple shape approximation of f1 -->
    <!-- <collision group="default">
        <origin xyz="0.024 0 0" rpy="0 ${M_pi/2} 0"/>
        <geometry>
          <cylinder radius="0.01" length="0.067" />
        </geometry>
      </collision> -->
    <!--   end simple shape approximation of f1 -->
    <!-- begin visual shape approximation of f1 -->
    <visual>
      <origin rpy="0 1.57079632679 0" xyz="0.024 0 0"/>
      <geometry>
        <cylinder length="0.067" radius="0.01"/>
      </geometry>
      <material name="left_sandia_hand_skin">
        <color rgba="0.835 0.655 0.345 1.0"/>
      </material>
    </visual>
    <!--   end visual shape approximation of f1 -->
    <!-- begin collision mesh of f1 ->
      <collision group="default">
        <origin xyz="0 0 0" rpy="0 0 0"/>
        <geometry>
          <mesh filename="package://sandia_hand_description/meshes/f1.stl"/>
        </geometry>
      </collision>
      <!-   end collision mesh of f1 -->
    <!-- begin visual mesh of f1 ->
      <visual>
        <origin xyz="0 0 0" rpy="0 0 0"/>
        <geometry>
          <mesh filename="package://sandia_hand_description/meshes/f1.stl"/>
        </geometry>
        <material name="${side}_sandia_hand_skin">
          <color rgba="0.835 0.655 0.345 1.0"/>
        </material>
      </visual>
      <!-   end visual mesh of f1 -->
  </link>
  <link name="left_f2_1_accel">
    <origin rpy="0 0 0" xyz="0 0 0"/>
    <inertial>
      <mass value="0.001"/>
      <origin xyz="0 0 0"/>
      <inertia ixx="0.01" ixy="0" ixz="0" iyy="0.01" iyz="0" izz="0.01"/>
    </inertial>
    <!-- ############ MIT ADDITION ############ -->
    <!--      <collision>-->
    <!--        <origin rpy="0 0 0" xyz="0 0 0.01"/>-->
    <!--        <geometry>-->
    <!--          <sphere radius="0"/>-->
    <!--        </geometry>-->
    <!--      </collision>  -->
    <!-- ############    END     ############ -->
  </link>
  <link name="left_f2_2">
    <origin rpy="0 0 0" xyz="0 0 0"/>
    <inertial>
      <mass value="0.05"/>
      <origin xyz="0 0 0"/>
      <inertia ixx="0.01" ixy="0" ixz="0" iyy="0.01" iyz="0" izz="0.01"/>
    </inertial>
    <!-- begin simple shape approximation of f2 -->
    <!-- <collision group="default">
        <origin xyz="0.024 0 0" rpy="0 ${M_pi/2} 0"/>
        <geometry>
          <cylinder radius="0.009" length="0.057" />
        </geometry>
      </collision> -->
    <!-- <collision group="other">
        <origin xyz="0.052 0 0" rpy="0 0 0"/>
        <geometry>
          <sphere radius="0.009" />
        </geometry>
      </collision> -->
    <!--   end simple shape approximation of f2 -->
    <!-- begin visual shape approximation of f2 -->
    <visual>
      <origin rpy="0 1.57079632679 0" xyz="0.024 0 0"/>
      <geometry>
        <cylinder length="0.057" radius="0.009"/>
      </geometry>
      <material name="left_sandia_hand_skin_suntan">
        <color rgba="0.8 0.6 0.3 1.0"/>
      </material>
    </visual>
    <visual>
      <origin rpy="0 0 0" xyz="0.052 0 0"/>
      <geometry>
        <sphere radius="0.009"/>
      </geometry>
      <material name="left_sandia_hand_skin_suntan">
        <color rgba="0.8 0.6 0.3 1.0"/>
      </material>
    </visual>
    <!-- begin collision mesh of f2    ->
      <collision group="default">
        <origin xyz="0 0 0" rpy="0 0 0"/>
        <geometry>
          <mesh filename="package://sandia_hand_description/meshes/f2.stl"/>
        </geometry>
      </collision>
      <!-   end collision mesh of f2 -->
    <!-- begin visual mesh of f2    ->
      <visual>
        <origin xyz="0 0 0" rpy="0 0 0"/>
        <geometry>
          <mesh filename="package://sandia_hand_description/meshes/f2.stl"/>
        </geometry>
        <material name="${side}_sandia_hand_skin_suntan">
          <color rgba="0.8 0.6 0.3 1.0"/>
        </material>
      </visual>
      <!-   end visual mesh of f2 -->
  </link>
  <link name="left_f2_2_accel">
    <origin rpy="0 0 0" xyz="0 0 0"/>
    <inertial>
      <mass value="0.001"/>
      <origin xyz="0 0 0"/>
      <inertia ixx="0.01" ixy="0" ixz="0" iyy="0.01" iyz="0" izz="0.01"/>
    </inertial>
    <!-- ############ MIT ADDITION ############ -->
    <collision>
      <origin rpy="0 0 0" xyz="0 0 0.01"/>
      <geometry>
        <sphere radius="0"/>
      </geometry>
    </collision>
    <!-- ############    END     ############ -->
  </link>
  <link name="left_f2_2_accel_dummy1">
    <origin rpy="0 0 0" xyz="0 0 0"/>
    <inertial>
      <mass value="0.001"/>
      <origin xyz="0 0 0"/>
      <inertia ixx="0.01" ixy="0" ixz="0" iyy="0.01" iyz="0" izz="0.01"/>
    </inertial>
    <collision>
      <origin rpy="0 0 0" xyz="-0.02 0.0 0.01"/>
      <geometry>
        <sphere radius="0"/>
      </geometry>
    </collision>
  </link>
  <joint name="left_f2_2_accel_dummy1" type="fixed">
    <parent link="left_f2_2"/>
    <child link="left_f2_2_accel_dummy1"/>
    <origin rpy="-1.57079632679 0 0" xyz="0.04 0 0"/>
  </joint>
  <joint name="left_f2_base" type="fixed">
    <parent link="left_palm"/>
    <child link="left_f2_base"/>
    <origin rpy="0 0 -0.3" xyz="0.09 -0.06245 0"/>
  </joint>
  <joint name="left_f2_j1" type="revolute">
    <axis xyz="0 0 1"/>
    <parent link="left_f2_0"/>
    <child link="left_f2_1"/>
    <limit effort="1" lower="-1.57079632679" upper="1.57079632679" velocity="1"/>
    <safety_controller k_position="1000.0" k_velocity="1000.0" soft_lower_limit="-11.57079" soft_upper_limit="11.57079"/>
    <dynamics damping="0.2"/>
    <origin rpy="1.57079632679 0 0" xyz="0.028 0 0"/>
  </joint>
  <joint name="left_f2_j2" type="revolute">
    <axis xyz="0 0 1"/>
    <parent link="left_f2_1"/>
    <child link="left_f2_2"/>
    <origin rpy="0 0 0" xyz="0.05 0 0"/>
    <safety_controller k_position="1000.0" k_velocity="1000.0" soft_lower_limit="-11.57079" soft_upper_limit="11.57079"/>
    <dynamics damping="0.2"/>
    <limit effort="1" lower="-1.57079632679" upper="1.57079632679" velocity="1"/>
  </joint>
  <joint name="left_f2_fixed_accel" type="fixed">
    <parent link="left_f2_base"/>
    <child link="left_f2_fixed_accel"/>
    <origin rpy="0 0 0" xyz="-0.05 0 0"/>
  </joint>
  <joint name="left_f2_1_accel" type="fixed">
    <parent link="left_f2_1"/>
    <child link="left_f2_1_accel"/>
    <origin rpy="-1.57079632679 0 0" xyz="0.03 0 0"/>
  </joint>
  <joint name="left_f2_2_accel" type="fixed">
    <parent link="left_f2_2"/>
    <child link="left_f2_2_accel"/>
    <origin rpy="-1.57079632679 0 0" xyz="0.04 0 0"/>
  </joint>
  <link name="left_f2_knuckle_dummy_contact">
    <origin rpy="0 0 0" xyz="0 0 0"/>
    <inertial>
      <mass value="0.001"/>
      <origin xyz="0 0 0"/>
      <inertia ixx="0.001" ixy="0" ixz="0" iyy="0.001" iyz="0" izz="0.001"/>
    </inertial>
    <collision>
      <origin rpy="0 0 0" xyz="0.058 0 0.034"/>
      <!--TODO: THERE IS A ERROR HERE: xyz needs to be "0.058 0 0.034" instead of "0.1 0 0.05"-->
      <geometry>
        <sphere radius="0"/>
      </geometry>
    </collision>
  </link>
  <joint name="left_f2_knuckle_dummy_contact" type="fixed">
    <parent link="left_f2_base"/>
    <child link="left_f2_knuckle_dummy_contact"/>
    <origin rpy="0 0 0" xyz="-0.05 0 0"/>
  </joint>
  <transmission name="left_f2_j0" type="pr2_mechanism_model/SimpleTransmission">
    <joint name="left_f2_j0"/>
    <actuator name="left_f2_j0_motor"/>
    <mechanicalReduction>1</mechanicalReduction>
  </transmission>
  <transmission name="left_f2_j1" type="pr2_mechanism_model/SimpleTransmission">
    <joint name="left_f2_j1"/>
    <actuator name="left_f2_j1_motor"/>
    <mechanicalReduction>1</mechanicalReduction>
  </transmission>
  <transmission name="left_f2_j2" type="pr2_mechanism_model/SimpleTransmission">
    <joint name="left_f2_j2"/>
    <actuator name="left_f2_j2_motor"/>
    <mechanicalReduction>1</mechanicalReduction>
  </transmission>
  <link name="left_f3_base">
    <origin rpy="0 0 0" xyz="0 0 0"/>
    <inertial>
      <mass value="0.35"/>
      <origin xyz="0 0 0"/>
      <inertia ixx="0.01" ixy="0" ixz="0" iyy="0.01" iyz="0" izz="0.01"/>
    </inertial>
  </link>
  <link name="left_f3_fixed_accel">
    <origin rpy="0 0 0" xyz="0 0 0"/>
    <inertial>
      <mass value="0.001"/>
      <origin xyz="0 0 0"/>
      <inertia ixx="0.01" ixy="0" ixz="0" iyy="0.01" iyz="0" izz="0.01"/>
    </inertial>
  </link>
  <link name="left_f3_0">
    <origin rpy="0 0 0" xyz="0 0 0"/>
    <inertial>
      <mass value="0.05"/>
      <origin xyz="0 0 0"/>
      <inertia ixx="0.01" ixy="0" ixz="0" iyy="0.01" iyz="0" izz="0.01"/>
    </inertial>
    <!-- begin simple shape approximation of f0 -->
    <!-- <collision group="default">
        <origin xyz="0 0 0.003" rpy="0 0 0"/>
        <geometry>
          <cylinder radius="0.015" length="0.023" />
        </geometry>
      </collision> -->
    <!-- <collision group="other">
        <origin xyz="0.011 0 0.003" rpy="${M_pi/2} 0 0"/>
        <geometry>
          <cylinder radius="0.01" length="0.023" />
        </geometry>
      </collision> -->
    <!--   end simple shape approximation of f0 -->
    <!-- begin visual shape approximation of f0 -->
    <visual>
      <origin rpy="0 0 0" xyz="0 0 0.003"/>
      <geometry>
        <cylinder length="0.023" radius="0.015"/>
      </geometry>
      <material name="left_sandia_hand_skin_suntan">
        <color rgba="0.7 0.4 0.2 1.0"/>
      </material>
    </visual>
    <visual>
      <origin rpy="1.57079632679 0 0" xyz="0.011 0 0.003"/>
      <geometry>
        <cylinder length="0.023" radius="0.01"/>
      </geometry>
      <material name="left_sandia_hand_skin_suntan">
        <color rgba="0.7 0.4 0.2 1.0"/>
      </material>
    </visual>
    <!--   end visual shape approximation of f0 -->
    <!-- begin collision mesh of f0 ->
      <collision group="default">
        <origin xyz="0 0 0" rpy="0 0 0"/>
        <geometry>
          <mesh filename="package://sandia_hand_description/meshes/f0.stl"/>
        </geometry>
      </collision>
      <!-   end collision mesh of f0 -->
    <!-- begin visual mesh of f0 ->
      <visual>
        <origin xyz="0 0 0" rpy="0 0 0"/>
        <geometry>
          <mesh filename="package://sandia_hand_description/meshes/f0.stl"/>
        </geometry>
        <material name="${side}_sandia_hand_skin_suntan">
          <color rgba="0.7 0.4 0.2 1.0"/>
        </material>
      </visual>
      <!-   end visual mesh of f0 -->
  </link>
  <link name="left_f3_1">
    <origin rpy="0 0 0" xyz="0 0 0"/>
    <inertial>
      <mass value="0.05"/>
      <origin xyz="0 0 0"/>
      <inertia ixx="0.01" ixy="0" ixz="0" iyy="0.01" iyz="0" izz="0.01"/>
    </inertial>
    <!-- begin simple shape approximation of f1 -->
    <!-- <collision group="default">
        <origin xyz="0.024 0 0" rpy="0 ${M_pi/2} 0"/>
        <geometry>
          <cylinder radius="0.01" length="0.067" />
        </geometry>
      </collision> -->
    <!--   end simple shape approximation of f1 -->
    <!-- begin visual shape approximation of f1 -->
    <visual>
      <origin rpy="0 1.57079632679 0" xyz="0.024 0 0"/>
      <geometry>
        <cylinder length="0.067" radius="0.01"/>
      </geometry>
      <material name="left_sandia_hand_skin">
        <color rgba="0.835 0.655 0.345 1.0"/>
      </material>
    </visual>
    <!--   end visual shape approximation of f1 -->
    <!-- begin collision mesh of f1 ->
      <collision group="default">
        <origin xyz="0 0 0" rpy="0 0 0"/>
        <geometry>
          <mesh filename="package://sandia_hand_description/meshes/f1.stl"/>
        </geometry>
      </collision>
      <!-   end collision mesh of f1 -->
    <!-- begin visual mesh of f1 ->
      <visual>
        <origin xyz="0 0 0" rpy="0 0 0"/>
        <geometry>
          <mesh filename="package://sandia_hand_description/meshes/f1.stl"/>
        </geometry>
        <material name="${side}_sandia_hand_skin">
          <color rgba="0.835 0.655 0.345 1.0"/>
        </material>
      </visual>
      <!-   end visual mesh of f1 -->
  </link>
  <link name="left_f3_1_accel">
    <origin rpy="0 0 0" xyz="0 0 0"/>
    <inertial>
      <mass value="0.001"/>
      <origin xyz="0 0 0"/>
      <inertia ixx="0.01" ixy="0" ixz="0" iyy="0.01" iyz="0" izz="0.01"/>
    </inertial>
  </link>
  <link name="left_f3_2">
    <origin rpy="0 0 0" xyz="0 0 0"/>
    <inertial>
      <mass value="0.05"/>
      <origin xyz="0 0 0"/>
      <inertia ixx="0.01" ixy="0" ixz="0" iyy="0.01" iyz="0" izz="0.01"/>
    </inertial>
    <!-- begin simple shape approximation of f2 -->
    <!-- <collision group="default">
        <origin xyz="0.024 0 0" rpy="0 ${M_pi/2} 0"/>
        <geometry>
          <cylinder radius="0.009" length="0.057" />
        </geometry>
      </collision> -->
    <!-- <collision group="other">
        <origin xyz="0.052 0 0" rpy="0 0 0"/>
        <geometry>
          <sphere radius="0.009" />
        </geometry>
      </collision> -->
    <!--   end simple shape approximation of f2 -->
    <!-- begin visual shape approximation of f2 -->
    <visual>
      <origin rpy="0 1.57079632679 0" xyz="0.024 0 0"/>
      <geometry>
        <cylinder length="0.057" radius="0.009"/>
      </geometry>
      <material name="left_sandia_hand_skin_suntan">
        <color rgba="0.8 0.6 0.3 1.0"/>
      </material>
    </visual>
    <visual>
      <origin rpy="0 0 0" xyz="0.052 0 0"/>
      <geometry>
        <sphere radius="0.009"/>
      </geometry>
      <material name="left_sandia_hand_skin_suntan">
        <color rgba="0.8 0.6 0.3 1.0"/>
      </material>
    </visual>
    <!-- begin collision mesh of f2    ->
      <collision group="default">
        <origin xyz="0 0 0" rpy="0 0 0"/>
        <geometry>
          <mesh filename="package://sandia_hand_description/meshes/f2.stl"/>
        </geometry>
      </collision>
      <!-   end collision mesh of f2 -->
    <!-- begin visual mesh of f2    ->
      <visual>
        <origin xyz="0 0 0" rpy="0 0 0"/>
        <geometry>
          <mesh filename="package://sandia_hand_description/meshes/f2.stl"/>
        </geometry>
        <material name="${side}_sandia_hand_skin_suntan">
          <color rgba="0.8 0.6 0.3 1.0"/>
        </material>
      </visual>
      <!-   end visual mesh of f2 -->
  </link>
  <link name="left_f3_2_accel">
    <origin rpy="0 0 0" xyz="0 0 0"/>
    <inertial>
      <mass value="0.001"/>
      <origin xyz="0 0 0"/>
      <inertia ixx="0.01" ixy="0" ixz="0" iyy="0.01" iyz="0" izz="0.01"/>
    </inertial>
    <!-- ############ MIT ADDITION ############ -->
    <collision>
      <origin rpy="0 0 0" xyz="0 0 0.01"/>
      <geometry>
        <sphere radius="0"/>
      </geometry>
    </collision>
    <!-- ############    END     ############ -->
  </link>
  <link name="left_f3_2_accel_dummy1">
    <origin rpy="0 0 0" xyz="0 0 0"/>
    <inertial>
      <mass value="0.001"/>
      <origin xyz="0 0 0"/>
      <inertia ixx="0.01" ixy="0" ixz="0" iyy="0.01" iyz="0" izz="0.01"/>
    </inertial>
    <collision>
      <origin rpy="0 0 0" xyz="-0.02 0.0 0.01"/>
      <geometry>
        <sphere radius="0"/>
      </geometry>
    </collision>
  </link>
  <joint name="left_f3_2_accel_dummy1" type="fixed">
    <parent link="left_f3_2"/>
    <child link="left_f3_2_accel_dummy1"/>
    <origin rpy="-1.57079632679 0 0" xyz="0.04 0 0"/>
  </joint>
  <joint name="left_f3_base" type="fixed">
    <parent link="left_palm"/>
    <child link="left_f3_base"/>
    <origin rpy="0 -1.57079632679 2.3562" xyz="0.03995 0.04383 0.014"/>
  </joint>
  <joint name="left_f3_j0" type="revolute">
    <axis xyz="0 0 -1"/>
    <parent link="left_f3_base"/>
    <child link="left_f3_0"/>
    <limit effort="1" lower="-1.57079632679" upper="1.57079632679" velocity="1"/>
    <safety_controller k_position="1000.0" k_velocity="1000.0" soft_lower_limit="-11.57079" soft_upper_limit="11.57079"/>
    <dynamics damping="0.2"/>
    <origin rpy="0 0 0" xyz="0 0 0"/>
  </joint>
  <joint name="left_f3_j1" type="revolute">
    <axis xyz="0 0 1"/>
    <parent link="left_f3_0"/>
    <child link="left_f3_1"/>
    <limit effort="1" lower="-1.57079632679" upper="1.57079632679" velocity="1"/>
    <safety_controller k_position="1000.0" k_velocity="1000.0" soft_lower_limit="-11.57079" soft_upper_limit="11.57079"/>
    <dynamics damping="0.2"/>
    <origin rpy="1.57079632679 0 0" xyz="0.028 0 0"/>
  </joint>
  <joint name="left_f3_j2" type="revolute">
    <axis xyz="0 0 1"/>
    <parent link="left_f3_1"/>
    <child link="left_f3_2"/>
    <origin rpy="0 0 0" xyz="0.05 0 0"/>
    <safety_controller k_position="1000.0" k_velocity="1000.0" soft_lower_limit="-11.57079" soft_upper_limit="11.57079"/>
    <dynamics damping="0.2"/>
    <limit effort="1" lower="-1.57079632679" upper="1.57079632679" velocity="1"/>
  </joint>
  <joint name="left_f3_fixed_accel" type="fixed">
    <parent link="left_f3_base"/>
    <child link="left_f3_fixed_accel"/>
    <origin rpy="0 0 0" xyz="-0.05 0 0"/>
  </joint>
  <joint name="left_f3_1_accel" type="fixed">
    <parent link="left_f3_1"/>
    <child link="left_f3_1_accel"/>
    <origin rpy="-1.57079632679 0 0" xyz="0.03 0 0"/>
  </joint>
  <joint name="left_f3_2_accel" type="fixed">
    <parent link="left_f3_2"/>
    <child link="left_f3_2_accel"/>
    <origin rpy="-1.57079632679 0 0" xyz="0.04 0 0"/>
  </joint>
  <transmission name="left_f3_j0" type="pr2_mechanism_model/SimpleTransmission">
    <joint name="left_f3_j0"/>
    <actuator name="left_f3_j0_motor"/>
    <mechanicalReduction>1</mechanicalReduction>
  </transmission>
  <transmission name="left_f3_j1" type="pr2_mechanism_model/SimpleTransmission">
    <joint name="left_f3_j1"/>
    <actuator name="left_f3_j1_motor"/>
    <mechanicalReduction>1</mechanicalReduction>
  </transmission>
  <transmission name="left_f3_j2" type="pr2_mechanism_model/SimpleTransmission">
    <joint name="left_f3_j2"/>
    <actuator name="left_f3_j2_motor"/>
    <mechanicalReduction>1</mechanicalReduction>
  </transmission>
  <joint name="left_f0_j0" type="revolute">
    <axis xyz="0 0 -1"/>
    <parent link="left_f0_base"/>
    <child link="left_f0_0"/>
    <!--    <limit effort="1" lower="-1.57079" upper="1.57079" velocity="1"/>-->
    <limit effort="1" lower="-1.57079632679" upper="0" velocity="1"/>
    <safety_controller k_position="1000.0" k_velocity="1000.0" soft_lower_limit="-11.57079" soft_upper_limit="11.57079"/>
    <dynamics damping="0.2"/>
    <origin rpy="0 0 0" xyz="0 0 0"/>
  </joint>
  <joint name="left_f1_j0" type="revolute">
    <axis xyz="0 0 -1"/>
    <parent link="left_f1_base"/>
    <child link="left_f1_0"/>
    <!--    <limit effort="1" lower="-1.57079" upper="1.57079" velocity="1"/>-->
    <limit effort="1" lower="-0.09" upper="0.09" velocity="1"/>
    <safety_controller k_position="1000.0" k_velocity="1000.0" soft_lower_limit="-11.57079" soft_upper_limit="11.57079"/>
    <dynamics damping="0.2"/>
    <origin rpy="0 0 0" xyz="0 0 0"/>
  </joint>
  <joint name="left_f2_j0" type="revolute">
    <axis xyz="0 0 -1"/>
    <parent link="left_f2_base"/>
    <child link="left_f2_0"/>
    <!--    <limit effort="1" lower="-1.57079" upper="1.57079" velocity="1"/>-->
    <limit effort="1" lower="0" upper="1.57079632679" velocity="1"/>
    <safety_controller k_position="1000.0" k_velocity="1000.0" soft_lower_limit="-11.57079" soft_upper_limit="11.57079"/>
    <dynamics damping="0.2"/>
    <origin rpy="0 0 0" xyz="0 0 0"/>
  </joint>
</robot>
